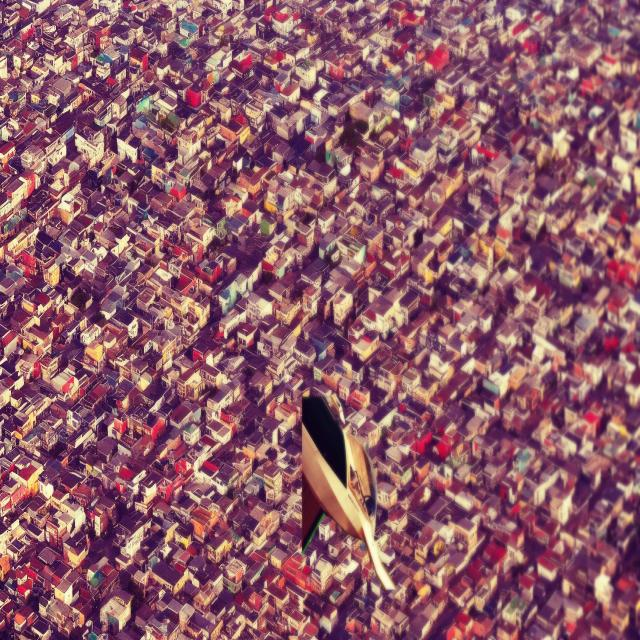airplane: (300, 386, 397, 592)
